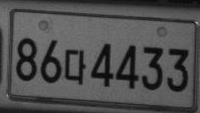3: (166, 48, 189, 92), (141, 46, 163, 89)
4: (90, 43, 113, 87), (115, 44, 138, 88)
6: (39, 39, 62, 83)
8: (15, 37, 37, 81)
다: (63, 49, 86, 85)
